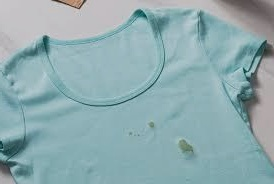mustard: (177, 139, 196, 159), (147, 115, 157, 129), (125, 131, 143, 137)
